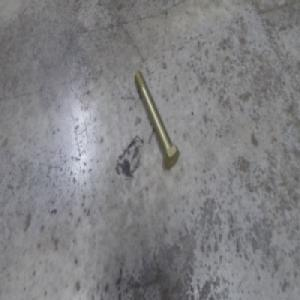Bolt: (134, 69, 179, 168)
